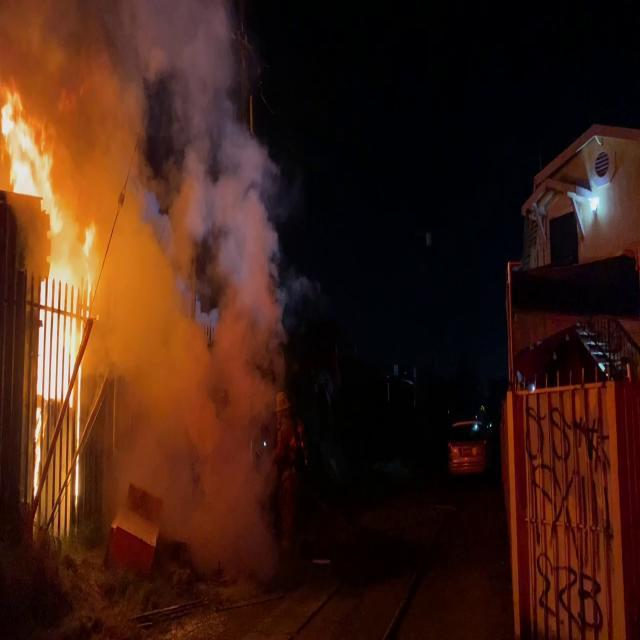Fire: (30, 198, 101, 529), (0, 80, 65, 226)
Smoke: (73, 0, 299, 592)
